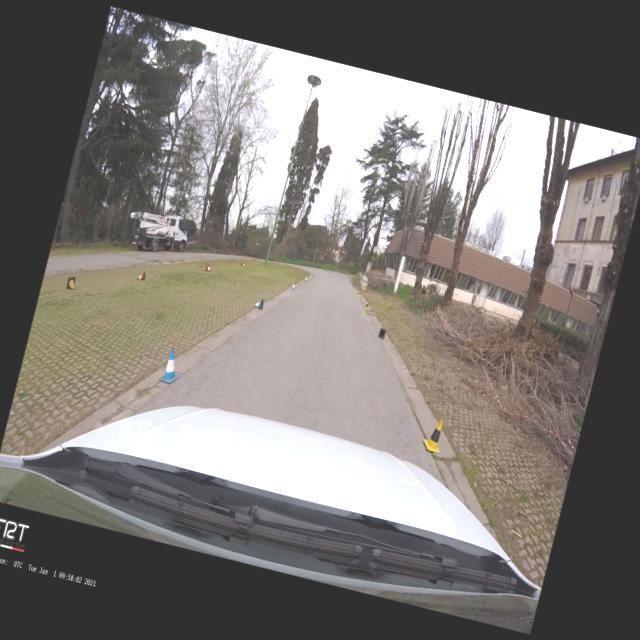blue_cone: (157, 346, 185, 385), (252, 296, 264, 310), (290, 282, 296, 290), (304, 276, 307, 282)
orange_cone: (136, 270, 146, 282), (205, 264, 212, 272), (241, 261, 245, 266)
unknown_cone: (65, 275, 77, 290), (376, 327, 386, 339)
yellow_cone: (420, 415, 448, 454), (363, 300, 370, 310), (358, 290, 360, 296)
